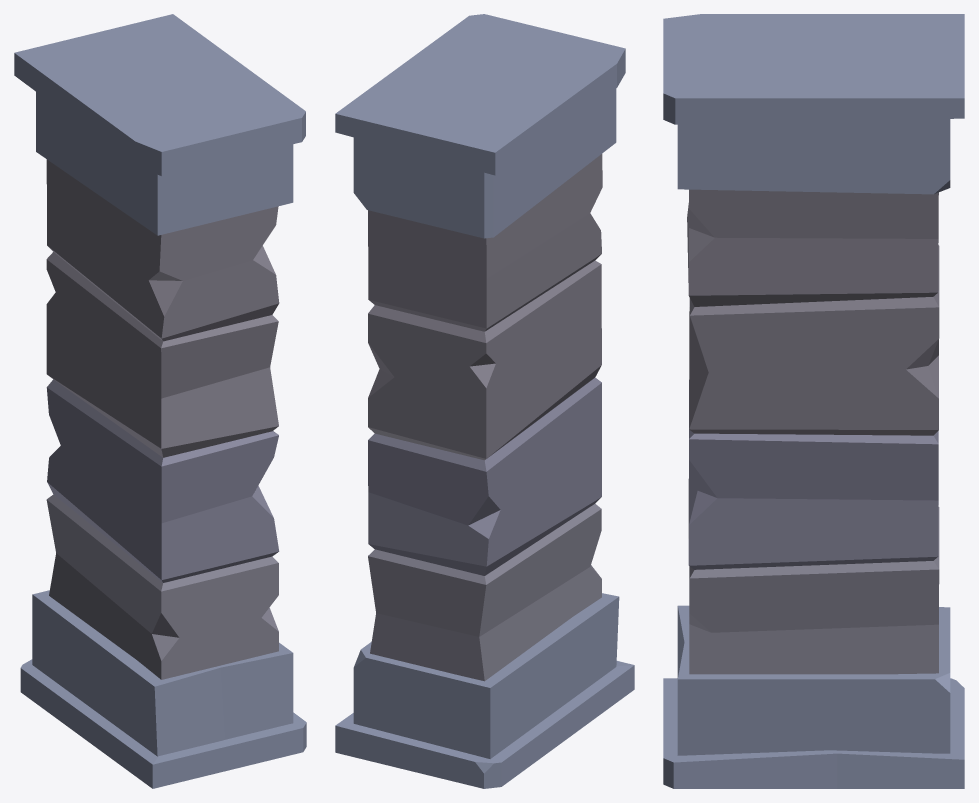
File: pillar_big.fbx
The picture shows the model from 3 angles, left to right: view 1: azimuth 30°, elevation 25°; view 2: azimuth 150°, elevation 25°; view 3: azimuth 270°, elevation 25°; orthographic projection. The views are drawn at different scales.
Parts seen in each view (by area): view 1: pillar_big; view 2: pillar_big; view 3: pillar_big.
Boxes of the visible parts, x1,y1,x2,y2 form: pillar_big: [14, 14, 306, 788]; pillar_big: [335, 14, 634, 788]; pillar_big: [663, 14, 964, 788].
Bounding box in the file's own units: 119 × 453 × 179.
